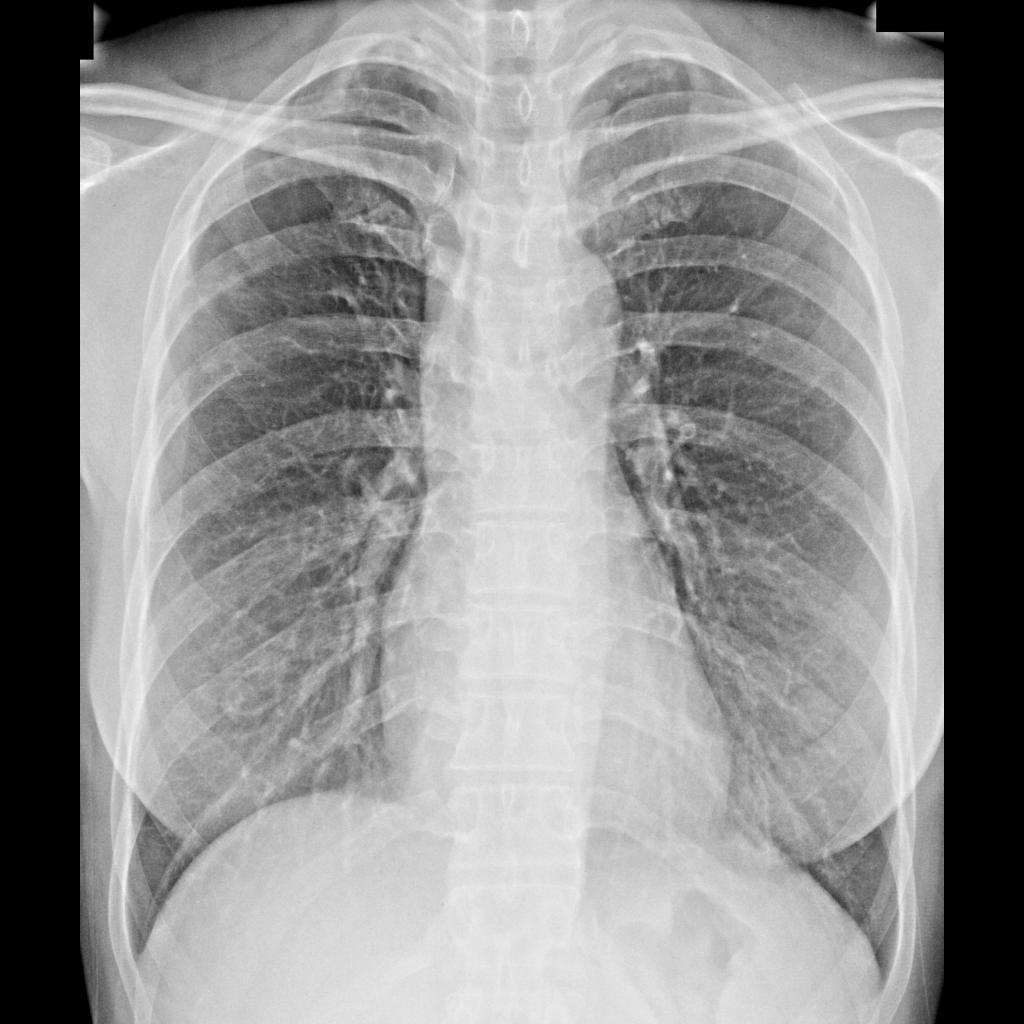Nodule: (203, 257, 252, 306)
